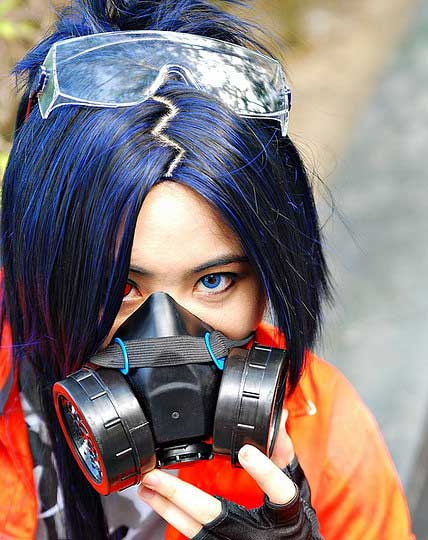face_mask: (52, 191, 287, 497)
